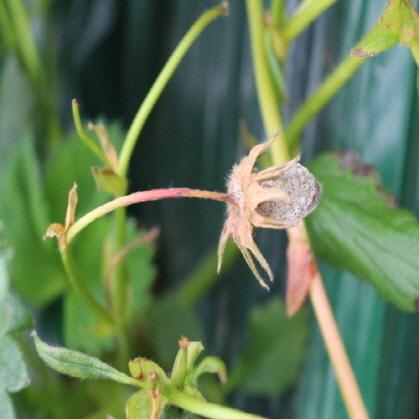Gray Mold: (208, 131, 322, 291)
